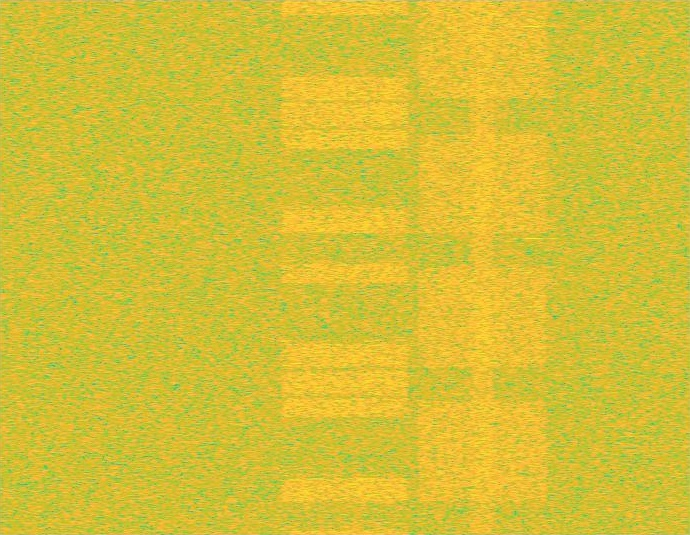5G: (414, 0, 552, 534)
DSSS: (467, 0, 499, 534)
LTE: (276, 0, 414, 534)
Radar: (526, 0, 539, 534)
